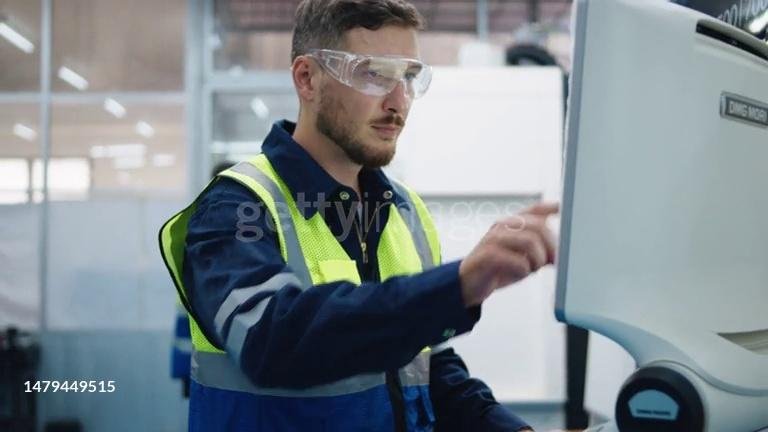person: (159, 0, 562, 432)
